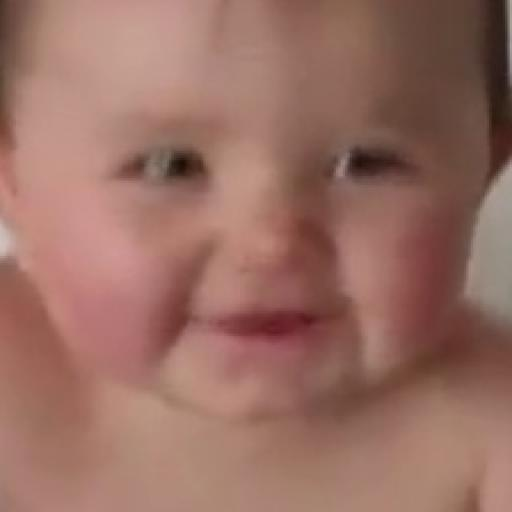Autism: (18, 5, 512, 446)
